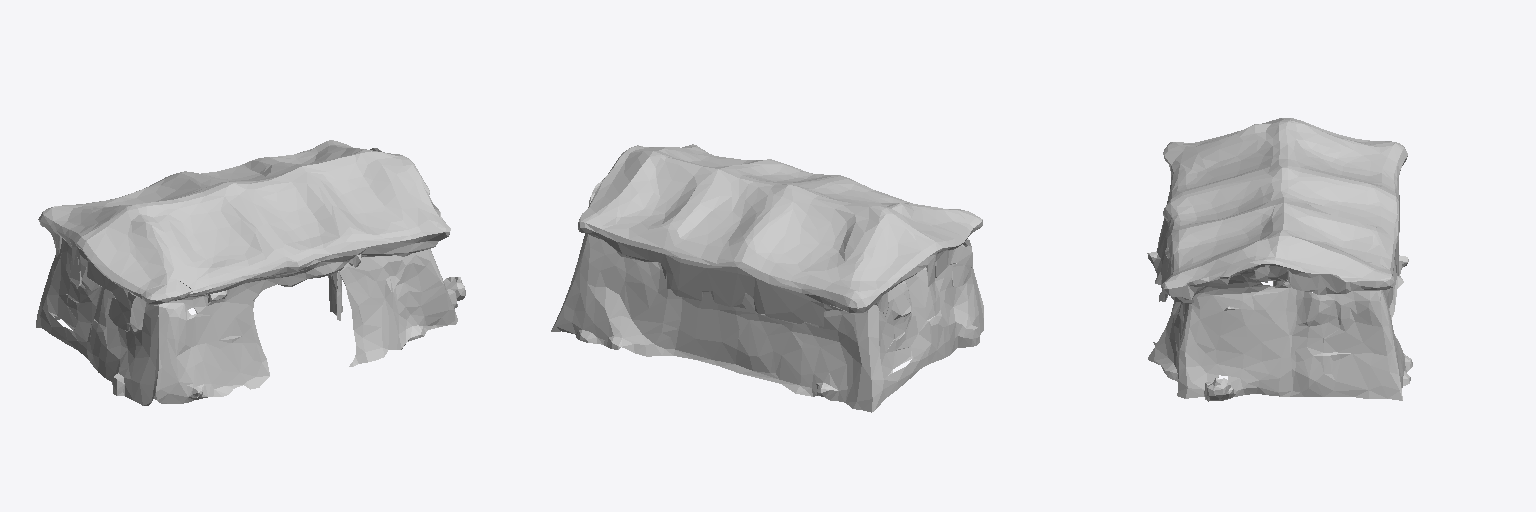
File: Tent3.obj
3 views of the same model, side by side, from view 1: azimuth 30°, elevation 25°; view 2: azimuth 150°, elevation 25°; view 3: azimuth 270°, elevation 25° (orthographic).
Visible parts, largest first — view 1: geometry_0; view 2: geometry_0; view 3: geometry_0.
Boxes of the visible parts, <box> form: geometry_0: <box>36,140,465,405</box>; geometry_0: <box>551,144,983,412</box>; geometry_0: <box>1147,118,1412,401</box>.
Bounding box in the file's own units: 0.8181 × 0.3447 × 0.5355.